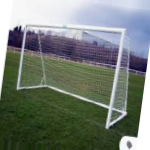goals: (15, 22, 130, 129)
